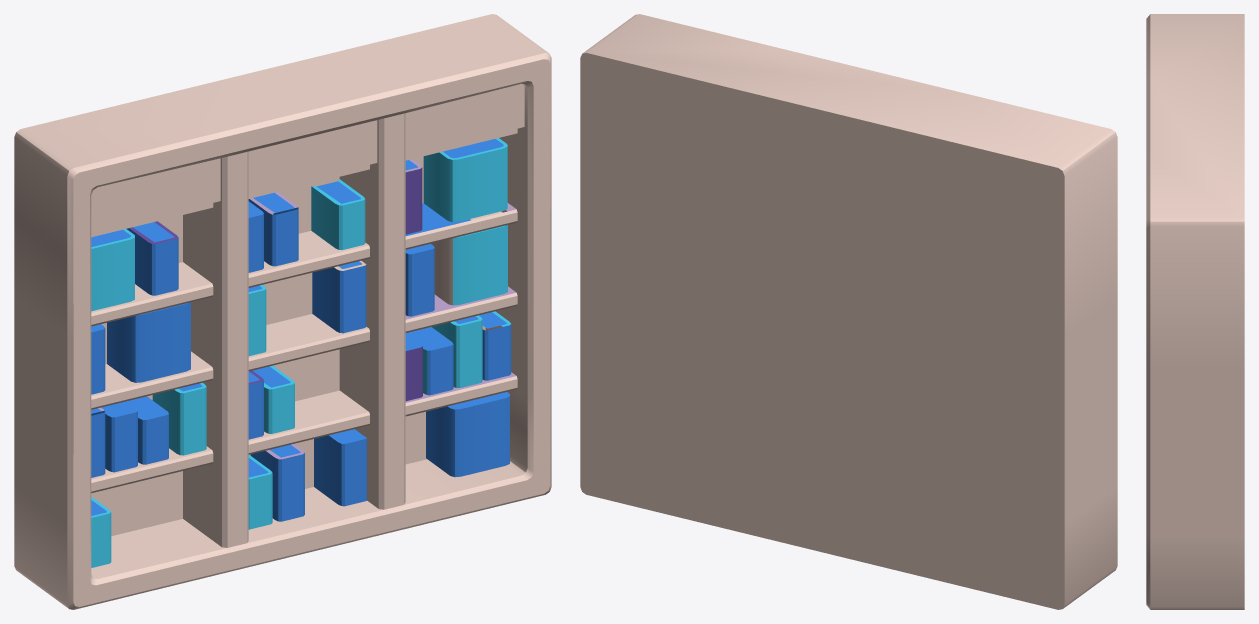
The model's file is Bookcase.fbx.
3 renders of one model, left to right at view 1: azimuth 30°, elevation 25°; view 2: azimuth 150°, elevation 25°; view 3: azimuth 270°, elevation 25°, orthographic. The views are drawn at different scales.
Parts seen in each view (by area): view 1: BookCase; view 2: BookCase; view 3: BookCase.
Part boxes in pixels (x1,y1,x2,y2): BookCase: (14, 14, 551, 609); BookCase: (580, 14, 1117, 609); BookCase: (1146, 14, 1244, 609).
Size of the model in its own units: 257 by 224 by 50.84.
